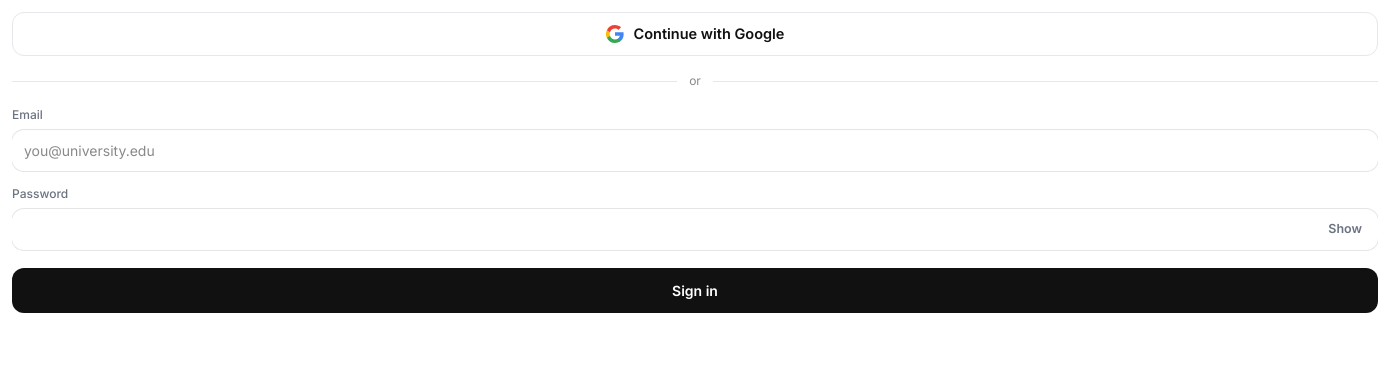
Test: sign-in with email and password › answers a wrong password without revealing whether the account exists
The width and height of the screenshot is (1390, 383).
Type "student@university.edu" into the field labelled "Email". click: coordinates (695, 150)
box: left=12, top=130, right=1378, bottom=171
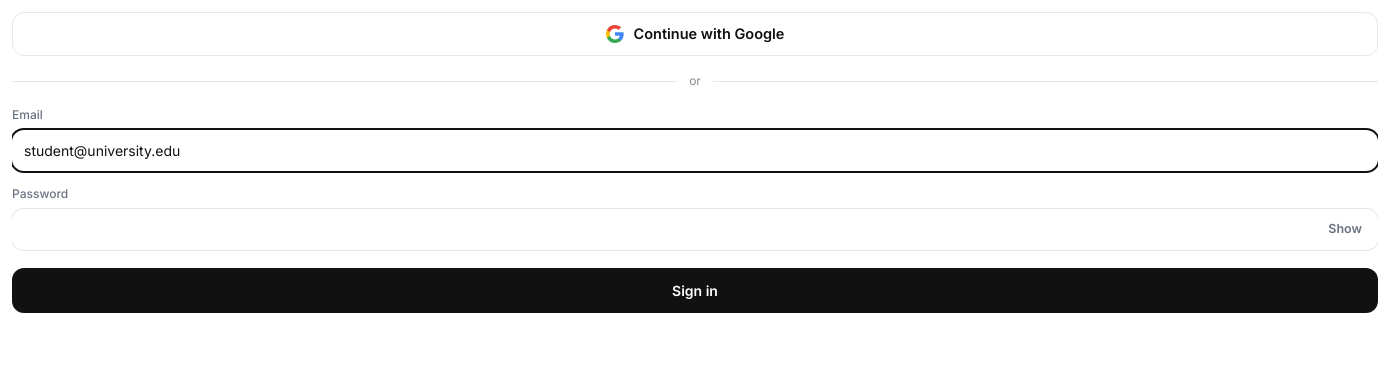
Type "wrong-password" into the password field labelled "Password". click: coordinates (695, 230)
box: left=12, top=209, right=1378, bottom=250
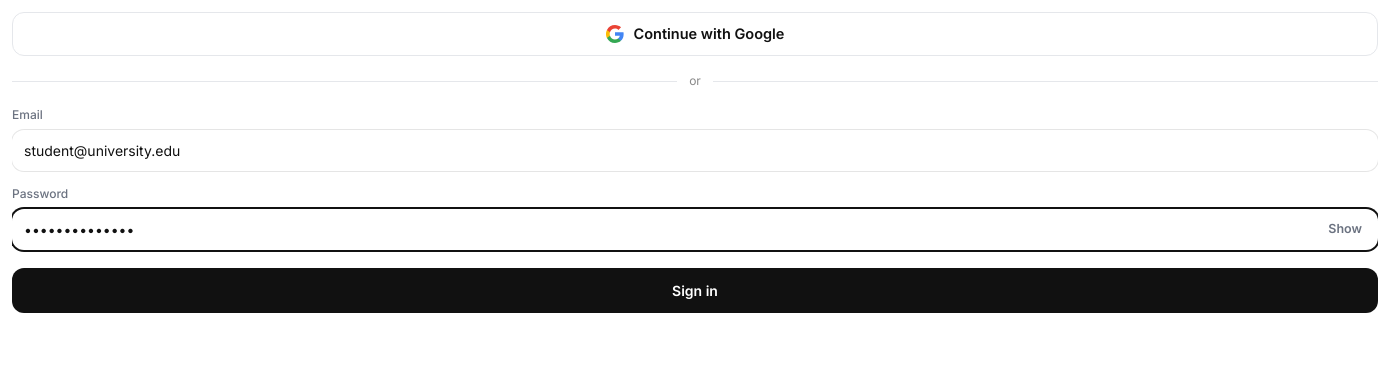
Click the button "Sign in". click: coordinates (695, 290)
box: left=12, top=268, right=1378, bottom=313
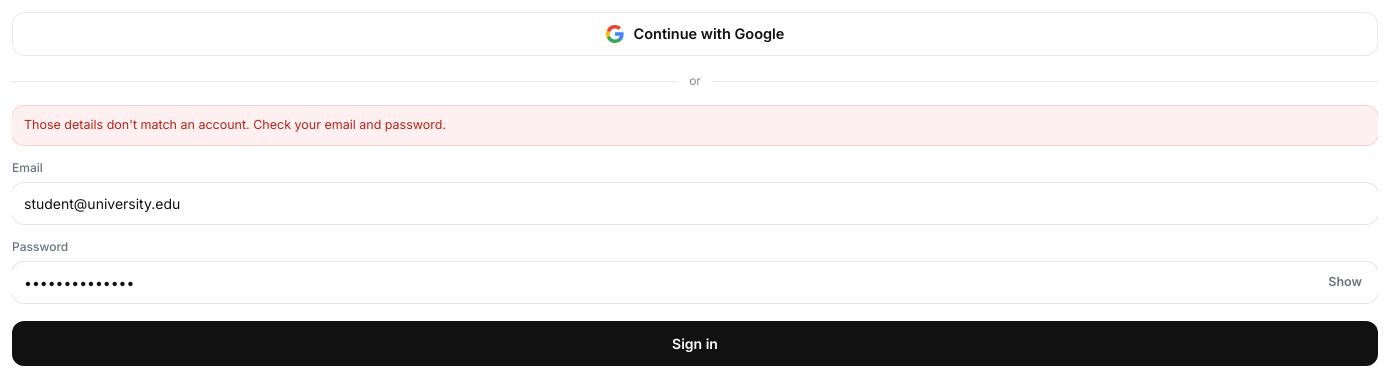
Check: the message shows "don't match an account", box left=24, top=117, right=446, bottom=132
